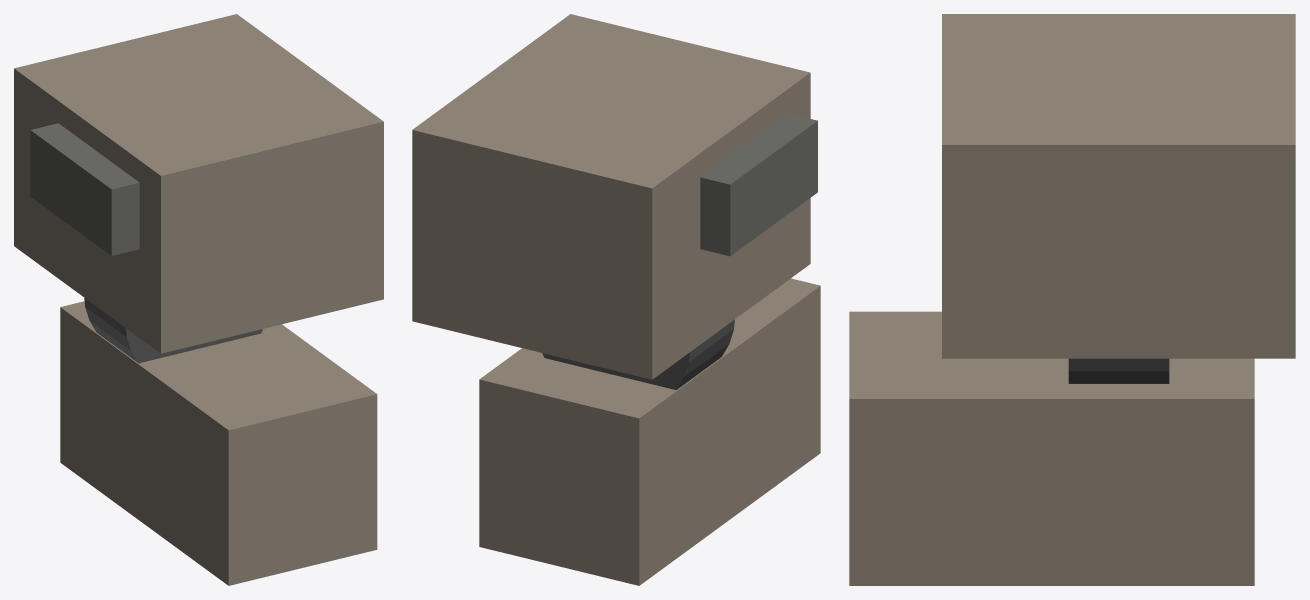
The model's file is arm_left_iron.glb.
The picture shows the model from 3 angles, left to right: view 1: azimuth 30°, elevation 25°; view 2: azimuth 150°, elevation 25°; view 3: azimuth 270°, elevation 25°; orthographic projection. The views are drawn at different scales.
Parts seen in each view (by area): view 1: geometry_0, geometry_1, geometry_3, geometry_2; view 2: geometry_0, geometry_1, geometry_3, geometry_2; view 3: geometry_0, geometry_1, geometry_2.
Part boxes in pixels (bbox=[...]): geometry_0: bbox=[14, 14, 383, 353]; geometry_1: bbox=[60, 301, 377, 585]; geometry_3: bbox=[30, 123, 139, 255]; geometry_2: bbox=[84, 298, 262, 363]; geometry_0: bbox=[412, 14, 810, 379]; geometry_1: bbox=[479, 278, 820, 585]; geometry_3: bbox=[700, 113, 817, 256]; geometry_2: bbox=[542, 319, 734, 389]; geometry_0: bbox=[942, 14, 1295, 358]; geometry_1: bbox=[849, 311, 1254, 585]; geometry_2: bbox=[1068, 358, 1169, 383].
Bounding box in the file's own units: 0.6242 × 0.924 × 0.7998.
